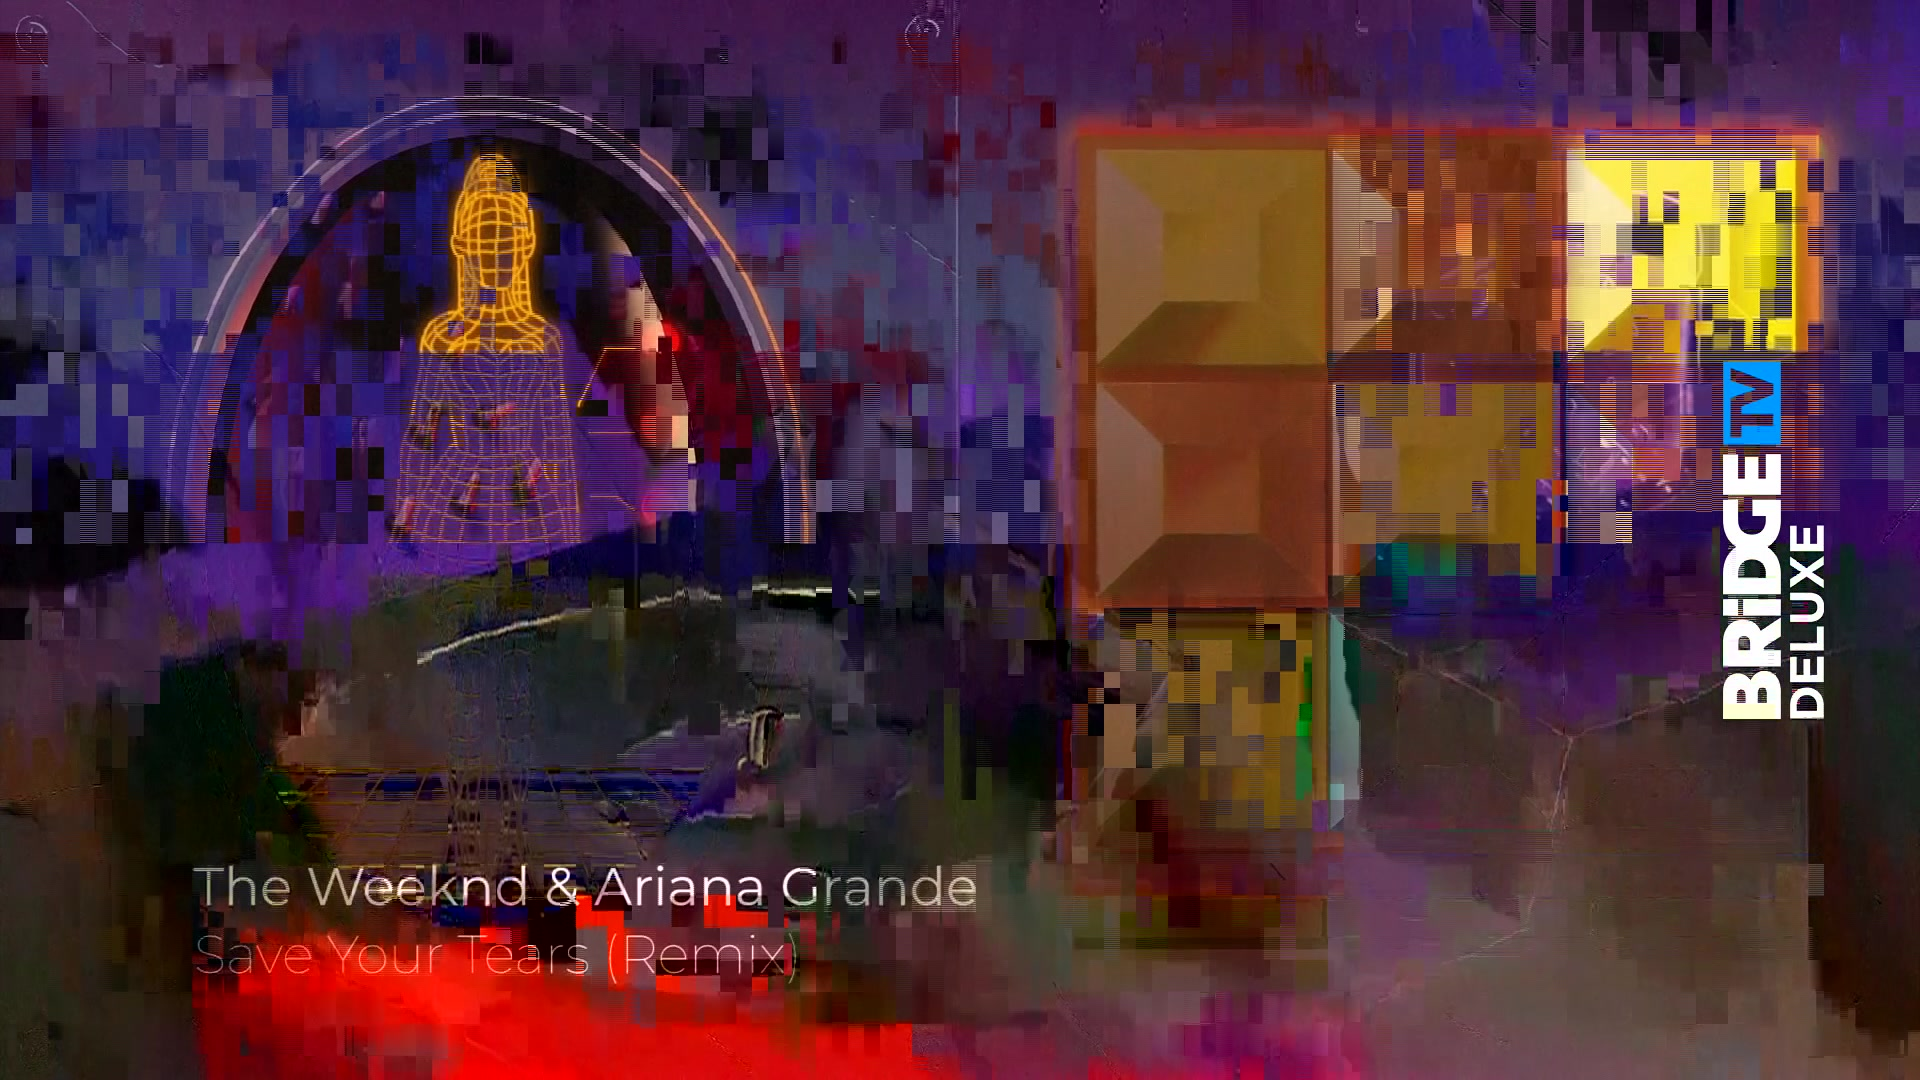Bridge_TV_Deluxe: (1716, 353, 1829, 727)
